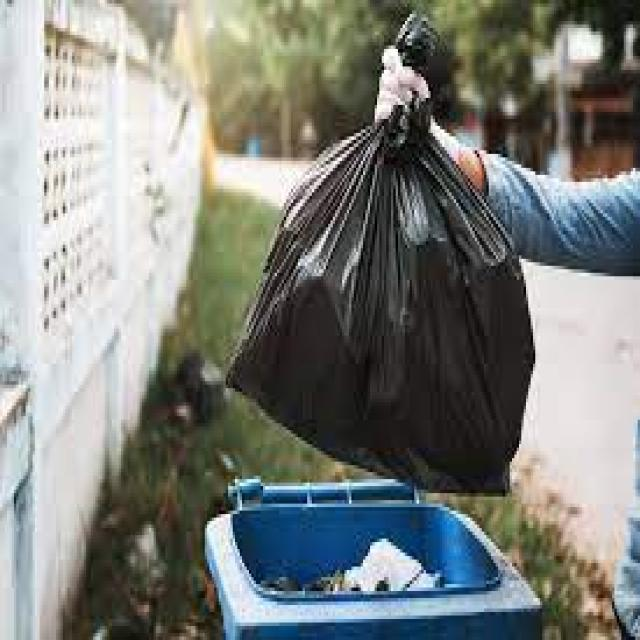sampah-detection: (223, 0, 538, 500), (261, 532, 446, 596)
